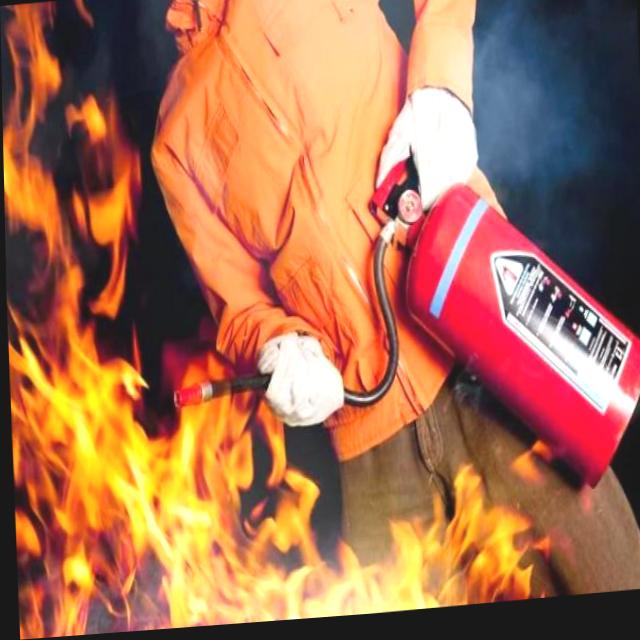FireExtinguisher: (152, 131, 640, 534)
